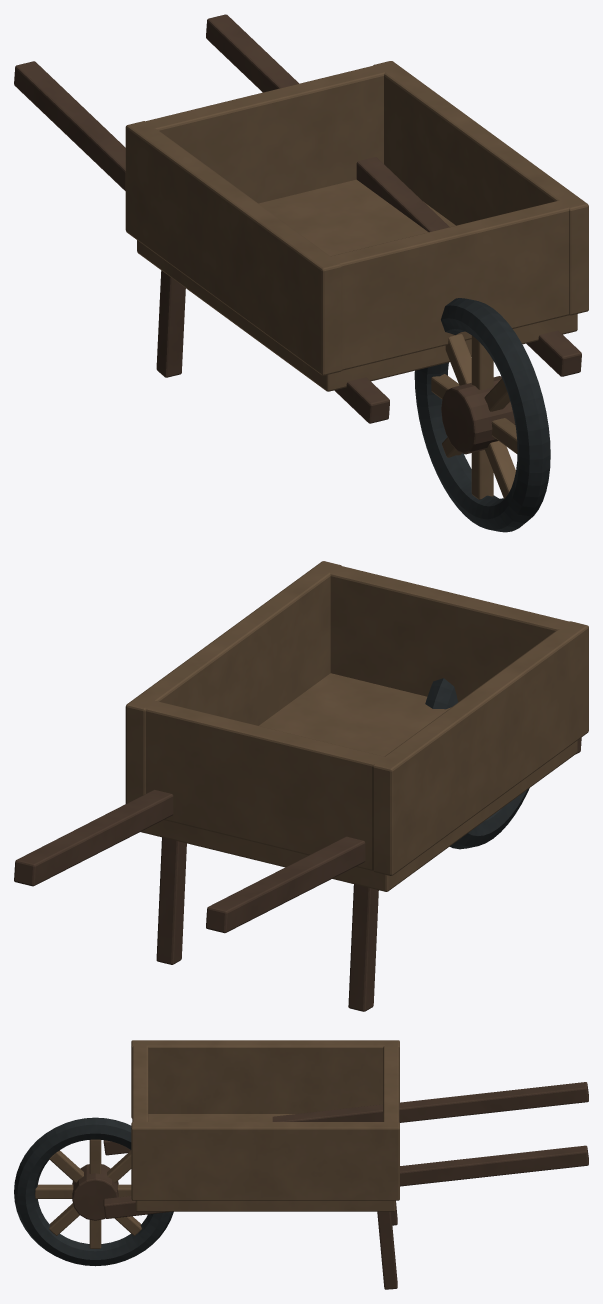
The model's file is Wheelbarrow.fbx.
The picture shows the model from 3 angles, top to bottom: view 1: azimuth 30°, elevation 25°; view 2: azimuth 150°, elevation 25°; view 3: azimuth 270°, elevation 25°; orthographic projection. The views are drawn at different scales.
Visible parts, largest first — view 1: Wheelbarrow.001; view 2: Wheelbarrow.001; view 3: Wheelbarrow.001.
Part boxes in pixels (<box>): Wheelbarrow.001: <box>14,14,588,532</box>; Wheelbarrow.001: <box>14,561,588,1011</box>; Wheelbarrow.001: <box>14,1040,588,1289</box>.
Bounding box in the file's own units: 1.17 × 1.12 × 3.21.
